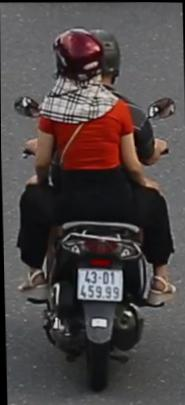LP: (74, 262, 125, 302)
helmet: (50, 23, 105, 91), (90, 18, 123, 79)
